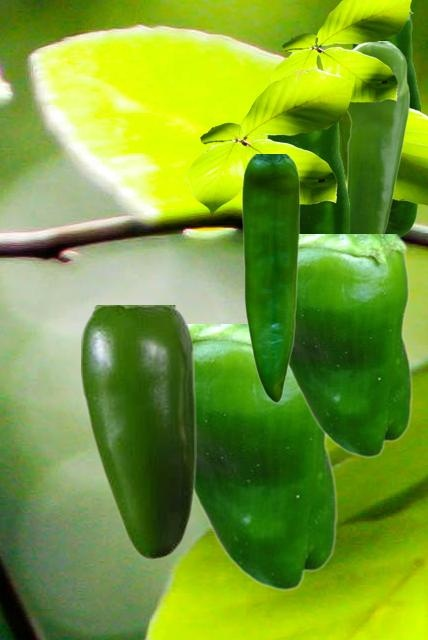green_chili: (189, 324, 336, 590), (81, 305, 195, 559), (289, 234, 411, 457), (352, 9, 419, 236), (241, 154, 299, 401), (267, 78, 348, 233), (346, 41, 408, 233)
